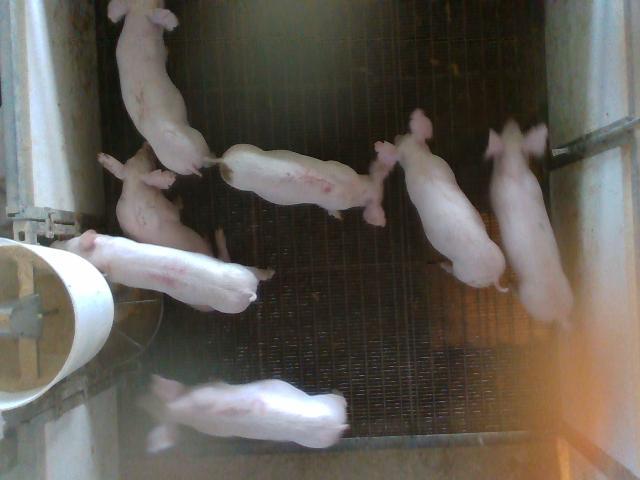pig-3: (139, 375, 349, 452)
pig-4: (55, 230, 260, 313)
pig-5: (218, 144, 391, 226)
